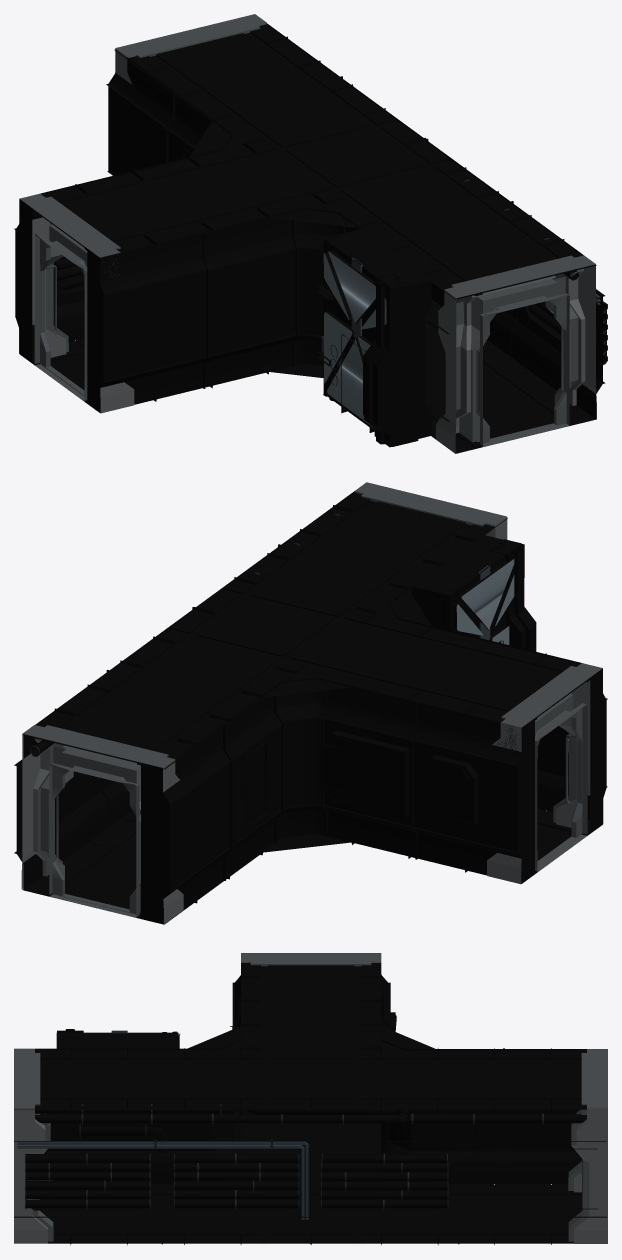
The model's file is ROOMx3T_1.fbx.
The picture shows the model from 3 angles, top to bottom: view 1: azimuth 30°, elevation 25°; view 2: azimuth 150°, elevation 25°; view 3: azimuth 270°, elevation 25°; orthographic projection. The views are drawn at different scales.
Visible parts, largest first — view 1: Plane.025, Main.018, ROOMx3T_1, Plane.021, OptionEVENTAIDKIT, OptionEVENTPipes, OptionEVENTElectrisity, Gen.012, Gen.011; view 2: Main.018, Plane.025, ROOMx3T_1, Plane.021, OptionEVENTPipes, OptionEVENTElectrisity, OptionEVENTAIDKIT, Gen.012; view 3: Plane.025, Plane.021, Main.018, ROOMx3T_1, MainTonel.103, OptionEMPTY.014, OptionEVENTPipes, MainTonel.101, Cylinder.039, OptionEMPTY.012, MainTonel.153, MainTonel.159 (+36 smaller).
Boxes of the visible parts, <box> form: Plane.025: <box>30,24,596,299</box>; Main.018: <box>14,23,606,421</box>; ROOMx3T_1: <box>19,14,596,453</box>; Plane.021: <box>30,299,596,453</box>; OptionEVENTAIDKIT: <box>323,241,431,444</box>; OptionEVENTPipes: <box>323,229,431,442</box>; OptionEVENTElectrisity: <box>323,243,431,443</box>; Gen.012: <box>317,275,406,447</box>; Gen.011: <box>319,258,418,446</box>; Main.018: <box>14,491,607,924</box>; Plane.025: <box>22,492,591,769</box>; ROOMx3T_1: <box>21,482,603,924</box>; Plane.021: <box>22,808,591,924</box>; OptionEVENTPipes: <box>412,534,520,644</box>; OptionEVENTElectrisity: <box>412,548,516,640</box>; OptionEVENTAIDKIT: <box>412,546,517,644</box>; Gen.012: <box>491,540,536,651</box>; Plane.025: <box>14,963,586,1110</box>; Plane.021: <box>40,1109,581,1245</box>; Main.018: <box>14,974,606,1244</box>; ROOMx3T_1: <box>14,953,607,1243</box>; MainTonel.103: <box>35,1113,586,1123</box>; OptionEMPTY.014: <box>56,1048,178,1183</box>; OptionEVENTPipes: <box>56,1032,178,1048</box>; MainTonel.101: <box>35,1104,242,1117</box>; Cylinder.039: <box>246,962,409,1121</box>; OptionEMPTY.012: <box>75,1124,167,1153</box>; MainTonel.153: <box>321,1190,401,1200</box>; MainTonel.159: <box>321,1162,401,1172</box>.
Size of the model in its own units: 6.5 by 2.59 by 10.02.
